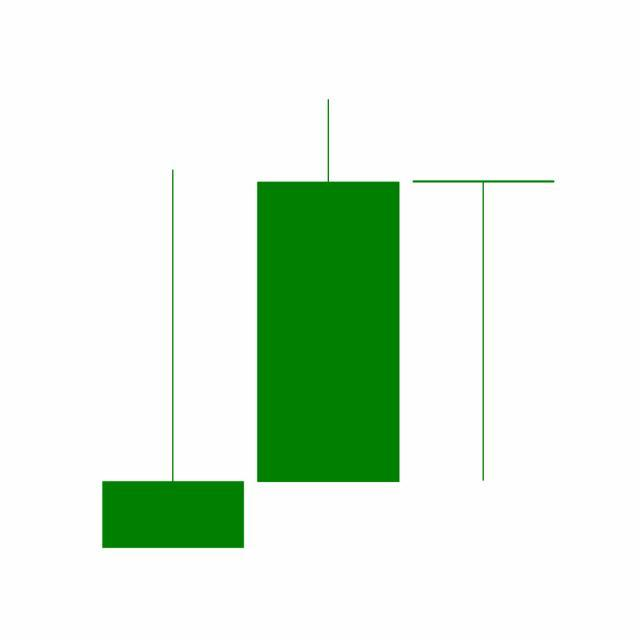Dragonfly Doji: (406, 177, 562, 485)
